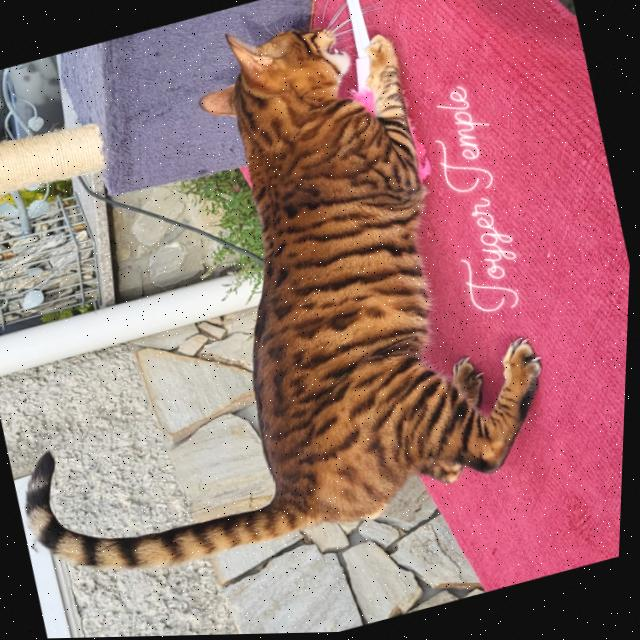Toyger: (0, 0, 586, 615)
